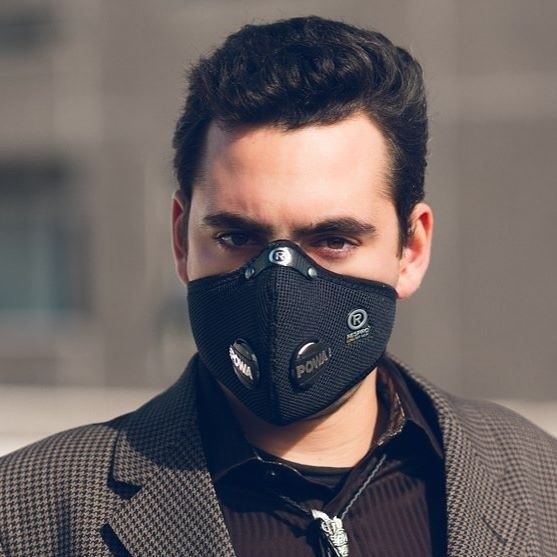face_with_mask: (161, 88, 439, 442)
